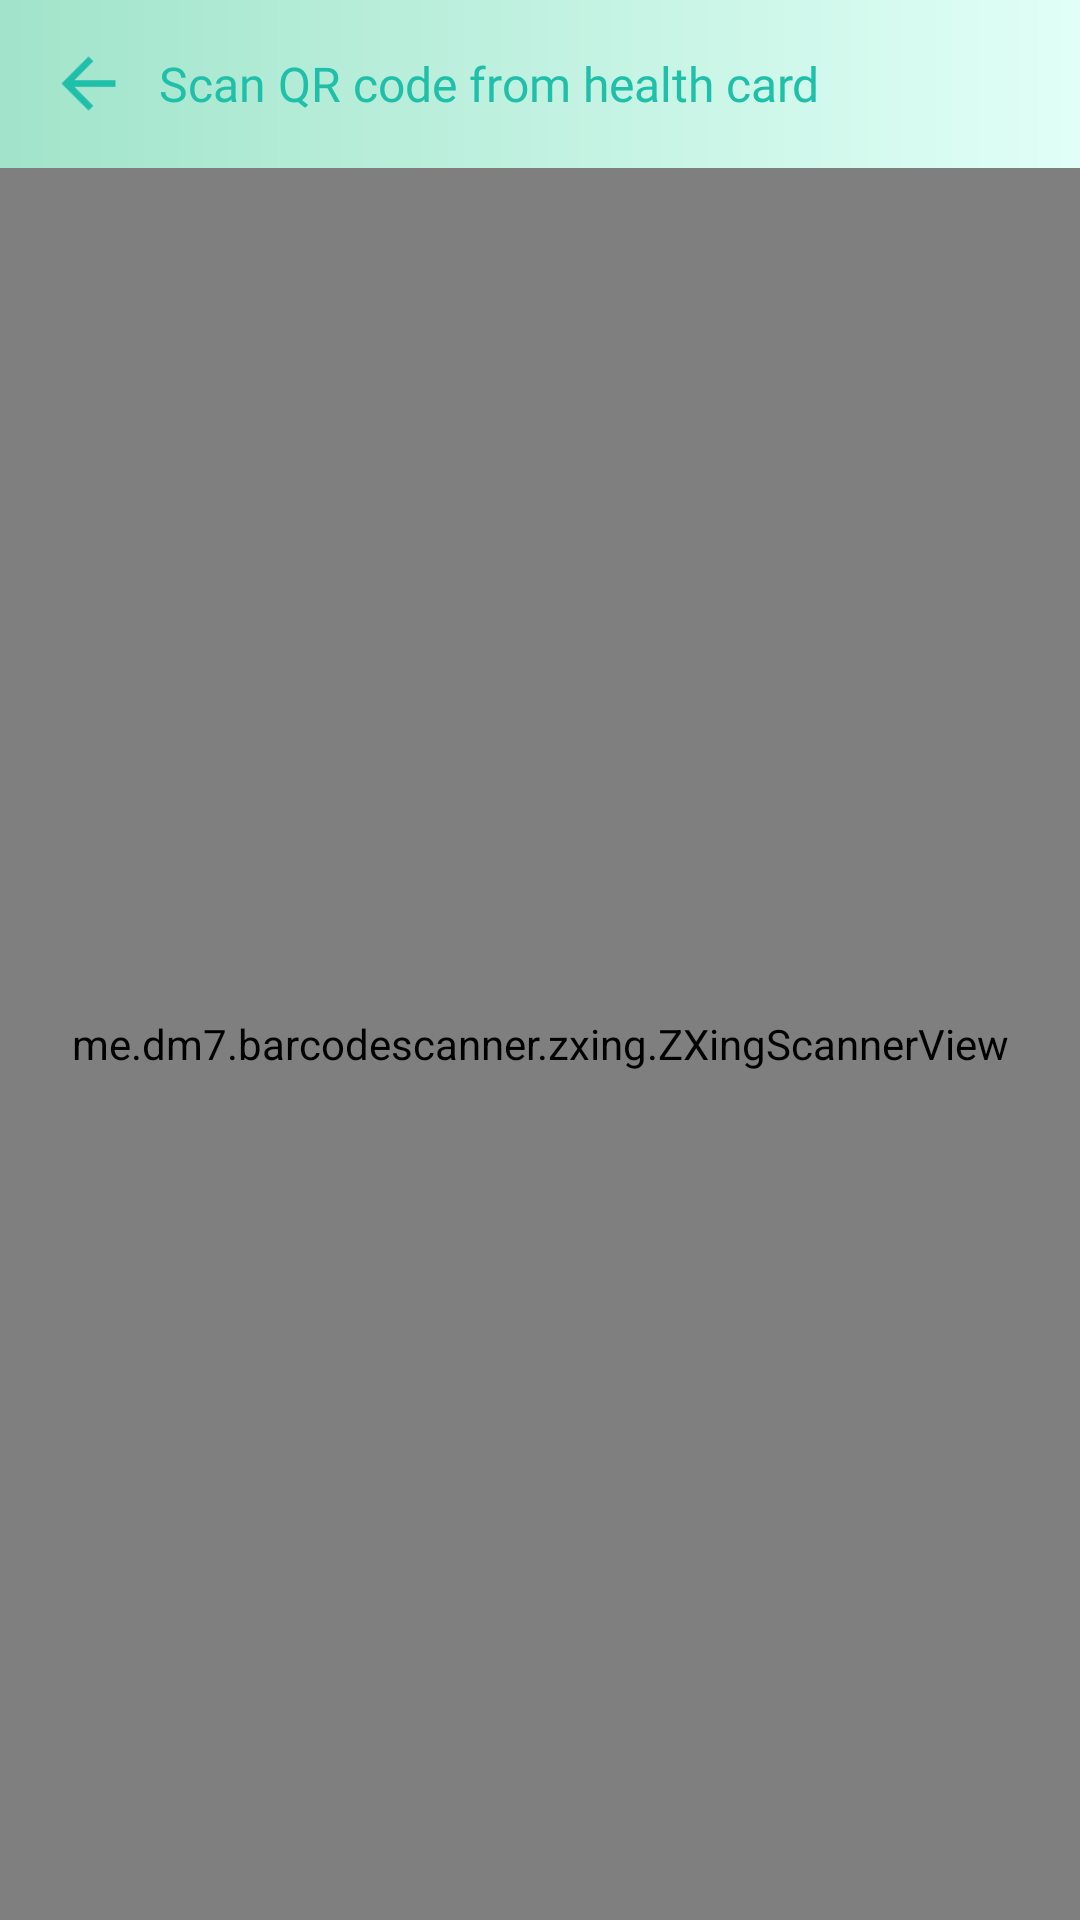

Where icons sit on this 1080 x 1920 app screen, as (x1, y1, x2, y2):
back arrow: (61, 56, 116, 111)
